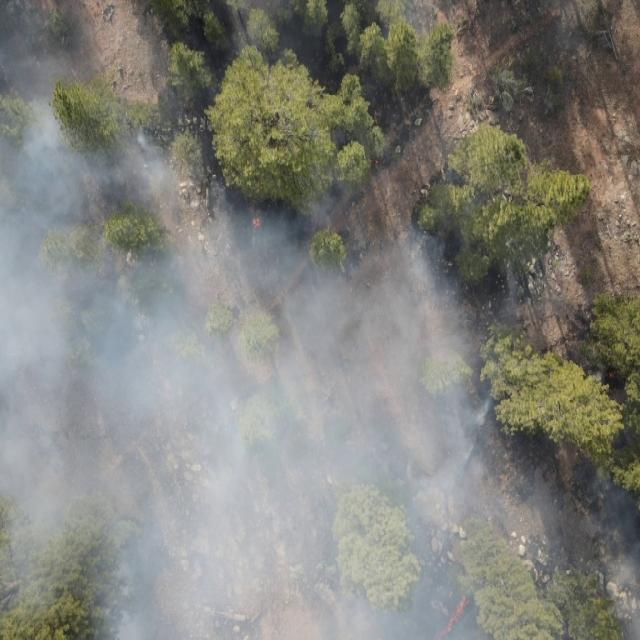fire: (433, 594, 472, 640), (250, 216, 264, 233), (608, 370, 615, 380)
smoke: (0, 76, 217, 640), (216, 169, 379, 640), (378, 224, 499, 638), (0, 0, 447, 76), (500, 435, 640, 640), (500, 263, 551, 331)
